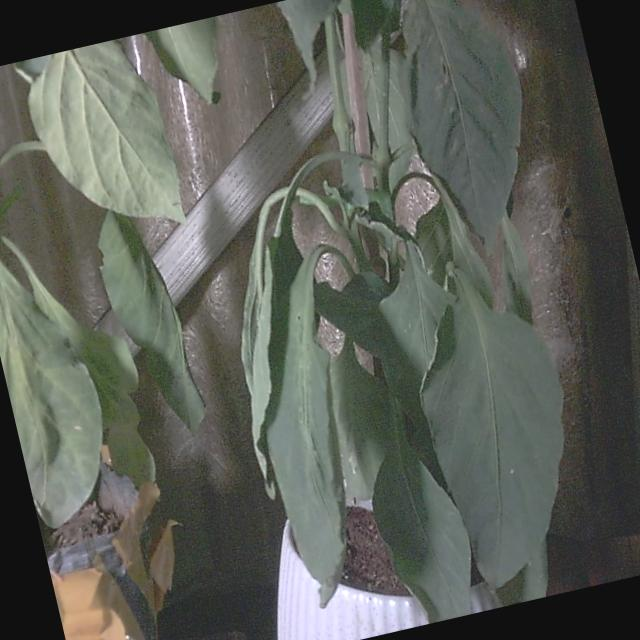Leaf: (421, 270, 562, 588), (402, 0, 521, 251), (28, 42, 184, 222), (0, 261, 101, 527), (98, 212, 204, 432), (145, 17, 217, 102)
